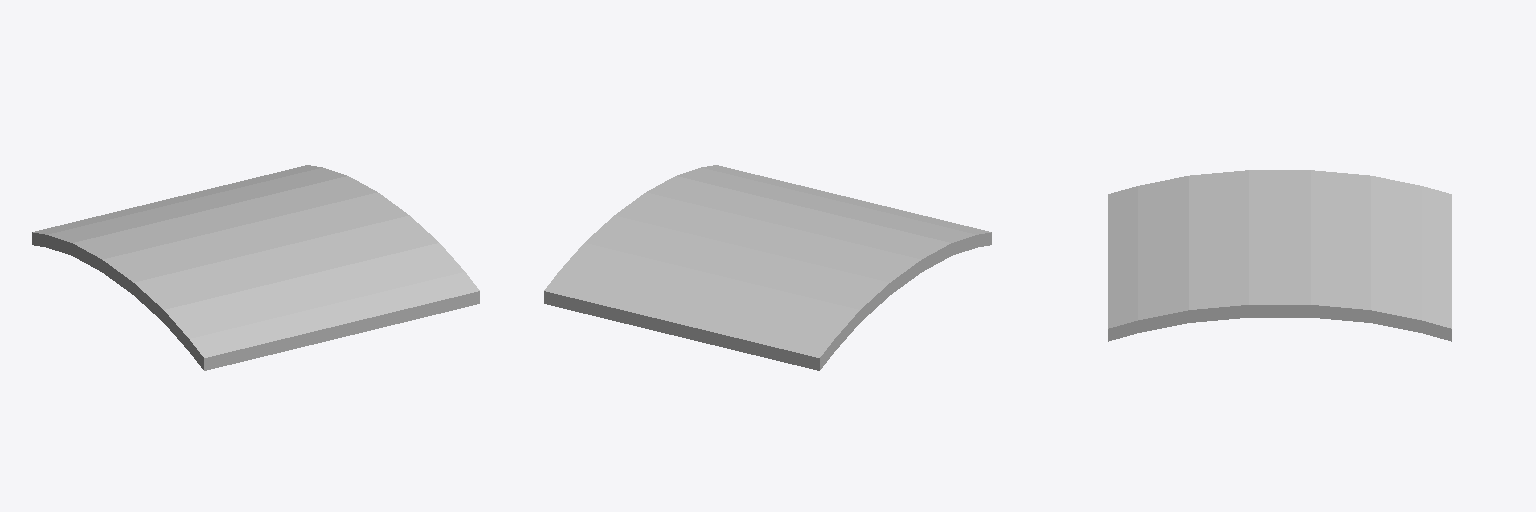
Rendered from trainBody.obj.
3 renders of one model, left to right at view 1: azimuth 30°, elevation 25°; view 2: azimuth 150°, elevation 25°; view 3: azimuth 270°, elevation 25°, orthographic.
Parts seen in each view (by area): view 1: Plane; view 2: Plane; view 3: Plane.
Boxes of the visible parts, <box> form: Plane: <box>32,165,479,370</box>; Plane: <box>544,165,991,370</box>; Plane: <box>1108,170,1451,341</box>.
Size of the model in its own units: 0.7408 by 0.0948 by 0.801.